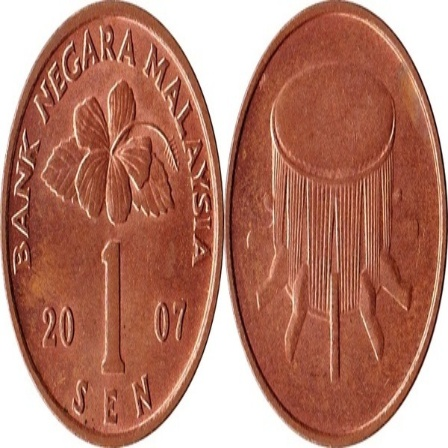1c: (0, 0, 225, 447), (224, 0, 448, 448)
